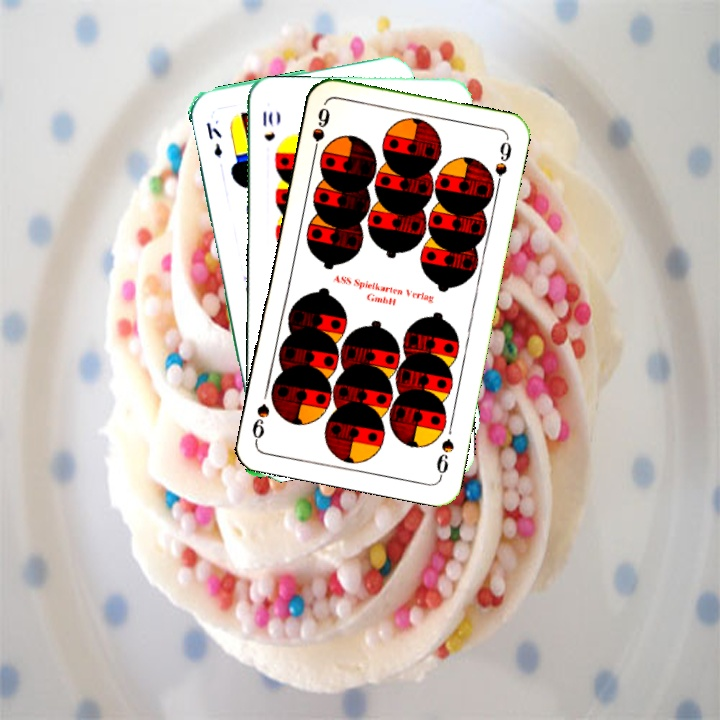EK: (202, 119, 225, 161)
S10: (259, 107, 277, 144)
S9: (308, 103, 333, 160), (432, 435, 457, 480)
